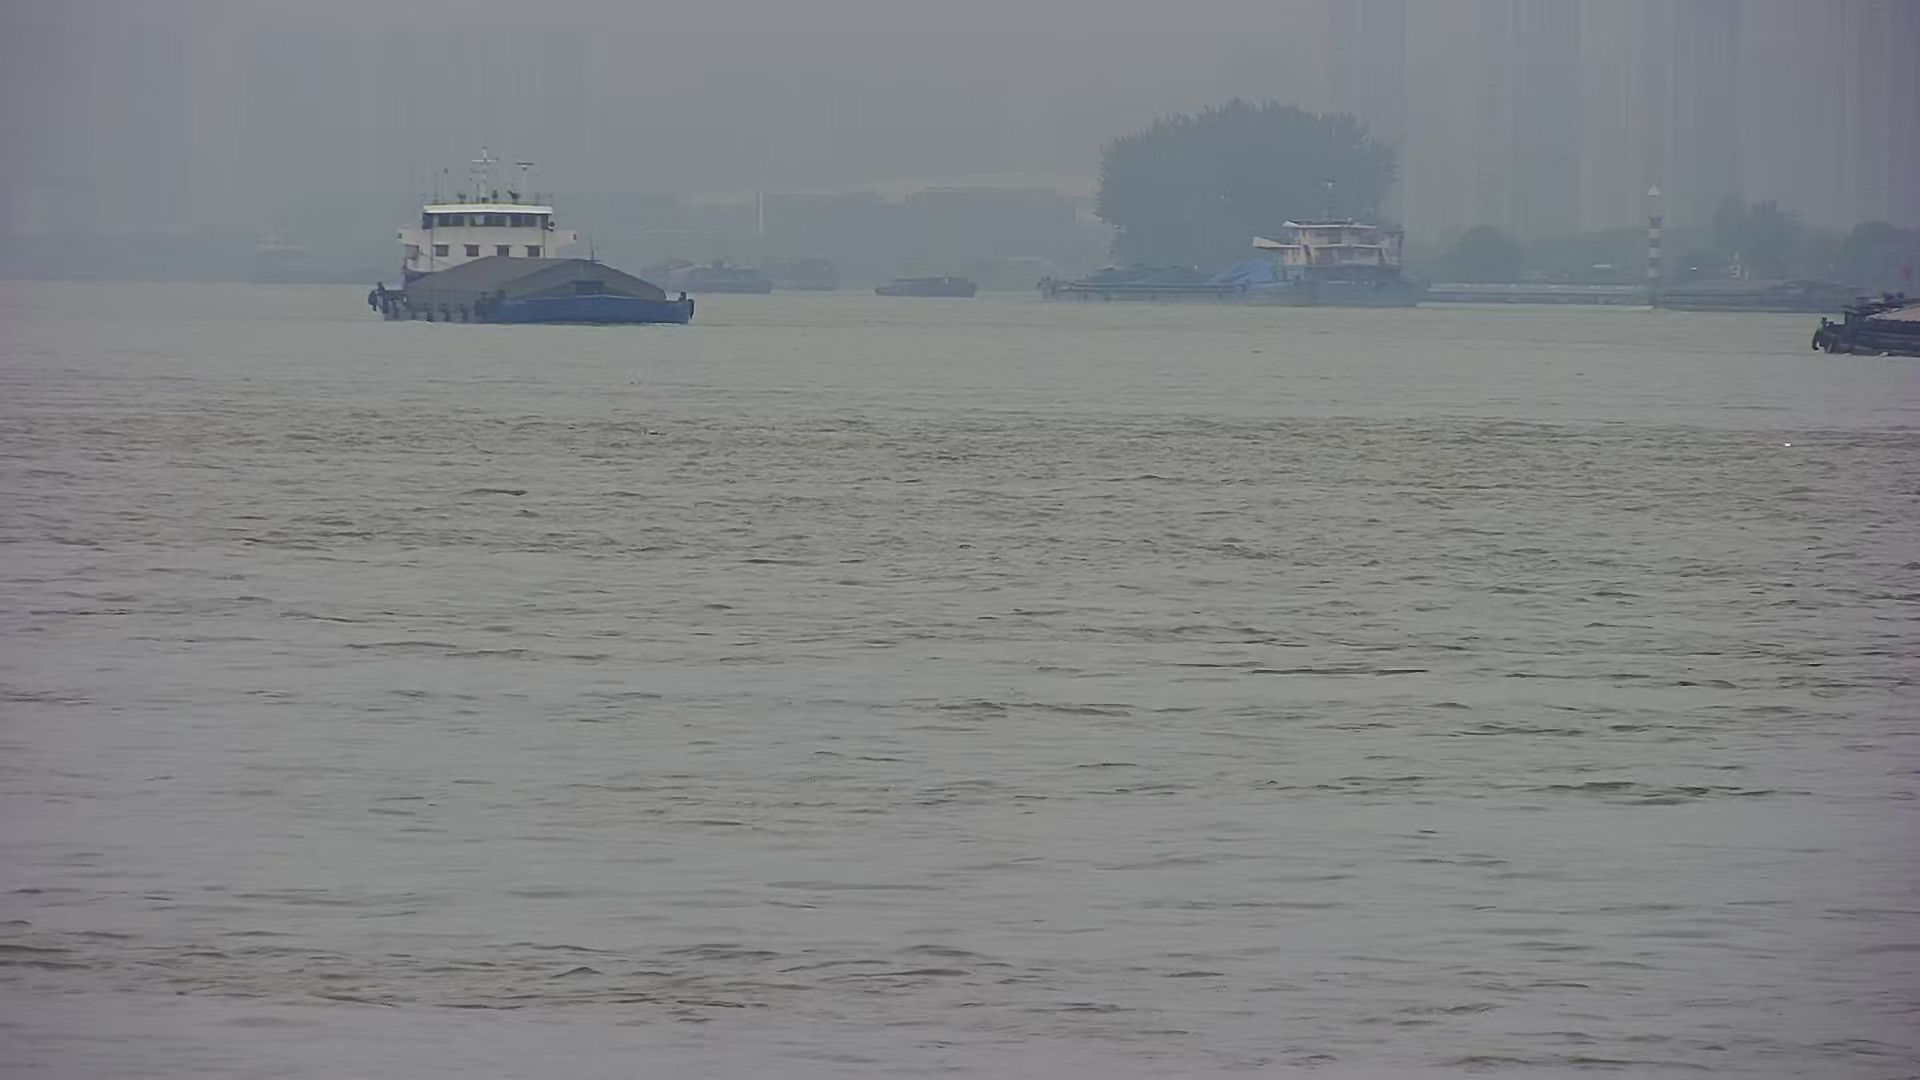ship: (349, 160, 709, 328), (1197, 167, 1447, 319), (1643, 258, 1863, 316), (1050, 257, 1230, 309), (630, 247, 789, 302), (865, 264, 989, 302)
